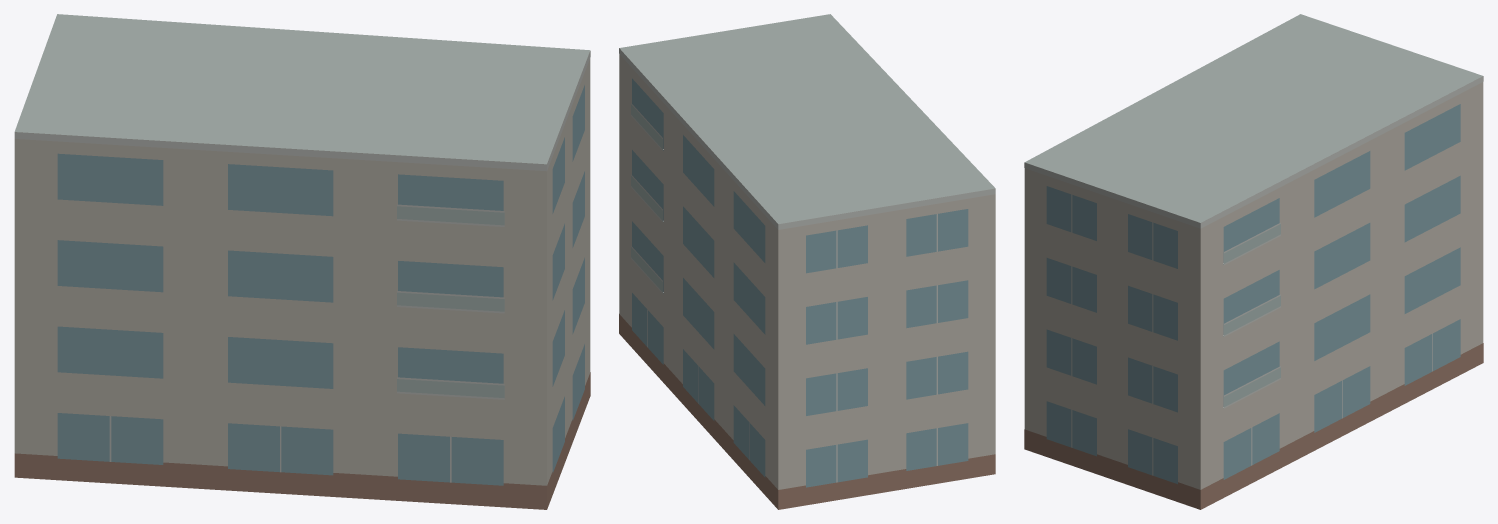
File: survey-upis-32512951.glb
3 renders of one model, left to right at view 1: azimuth 30°, elevation 25°; view 2: azimuth 150°, elevation 25°; view 3: azimuth 270°, elevation 25°, orthographic. The views are drawn at different scales.
Visible parts, largest first — view 1: survey-upis-32512951.tmp; view 2: survey-upis-32512951.tmp; view 3: survey-upis-32512951.tmp.
Part boxes in pixels (x1,y1,x2,y2): survey-upis-32512951.tmp: (14, 14, 590, 509); survey-upis-32512951.tmp: (619, 14, 995, 509); survey-upis-32512951.tmp: (1024, 14, 1483, 509).
Size of the model in its own units: 19.06 by 12.2 by 17.7.
